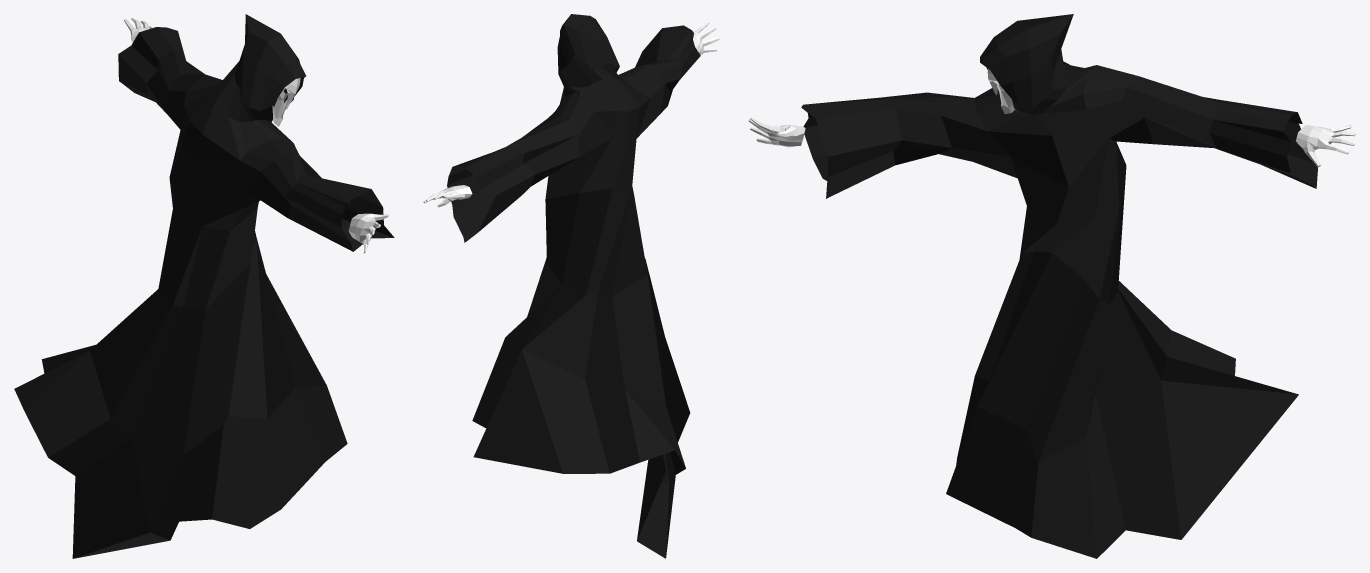
Rendered from ReaperAttack(34).obj.
3 renders of one model, left to right at view 1: azimuth 30°, elevation 25°; view 2: azimuth 150°, elevation 25°; view 3: azimuth 270°, elevation 25°, orthographic. The views are drawn at different scales.
Visible parts, largest first — view 1: Plane003; view 2: Plane003; view 3: Plane003.
Boxes of the visible parts, x1,y1,x2,y2 form: Plane003: (14, 14, 394, 558); Plane003: (423, 14, 719, 558); Plane003: (748, 14, 1355, 558).
Size of the model in its own units: 118 by 229 by 216.
